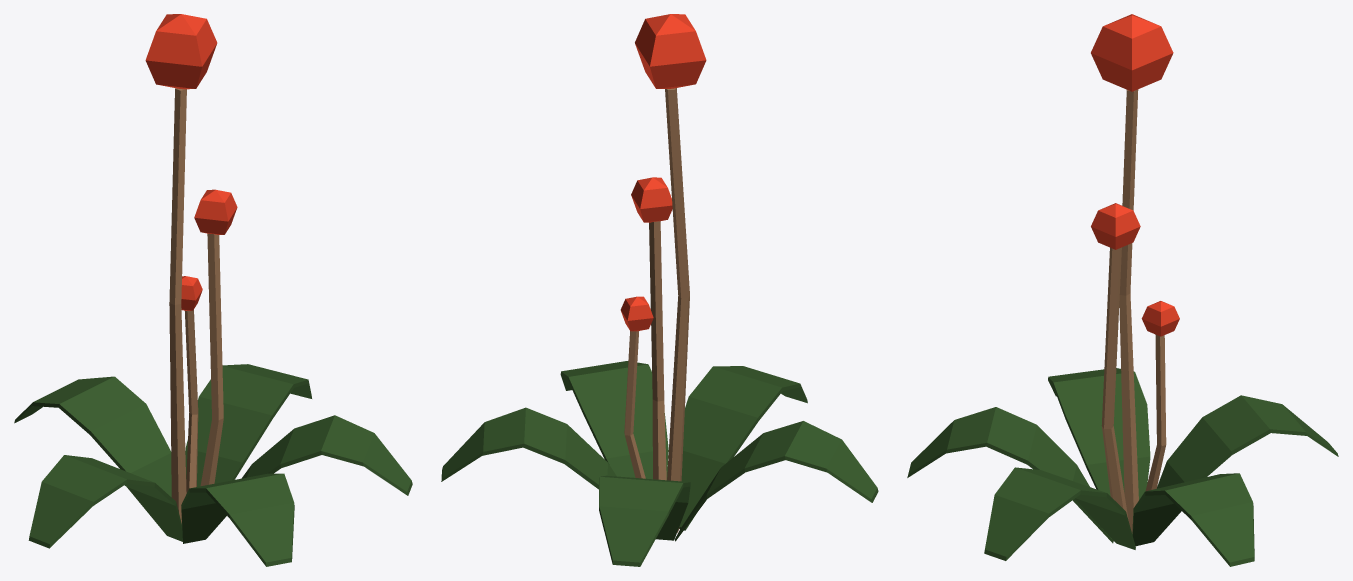
The model's file is Plant_02.fbx.
The picture shows the model from 3 angles, left to right: view 1: azimuth 30°, elevation 25°; view 2: azimuth 150°, elevation 25°; view 3: azimuth 270°, elevation 25°; orthographic projection.
Visible parts, largest first — view 1: Plant_02; view 2: Plant_02; view 3: Plant_02.
Boxes of the visible parts, x1,y1,x2,y2 form: Plant_02: (14,14,412,566); Plant_02: (441,14,878,566); Plant_02: (907,14,1338,566).
Bounding box in the file's own units: 88.24 × 123 × 92.47.
